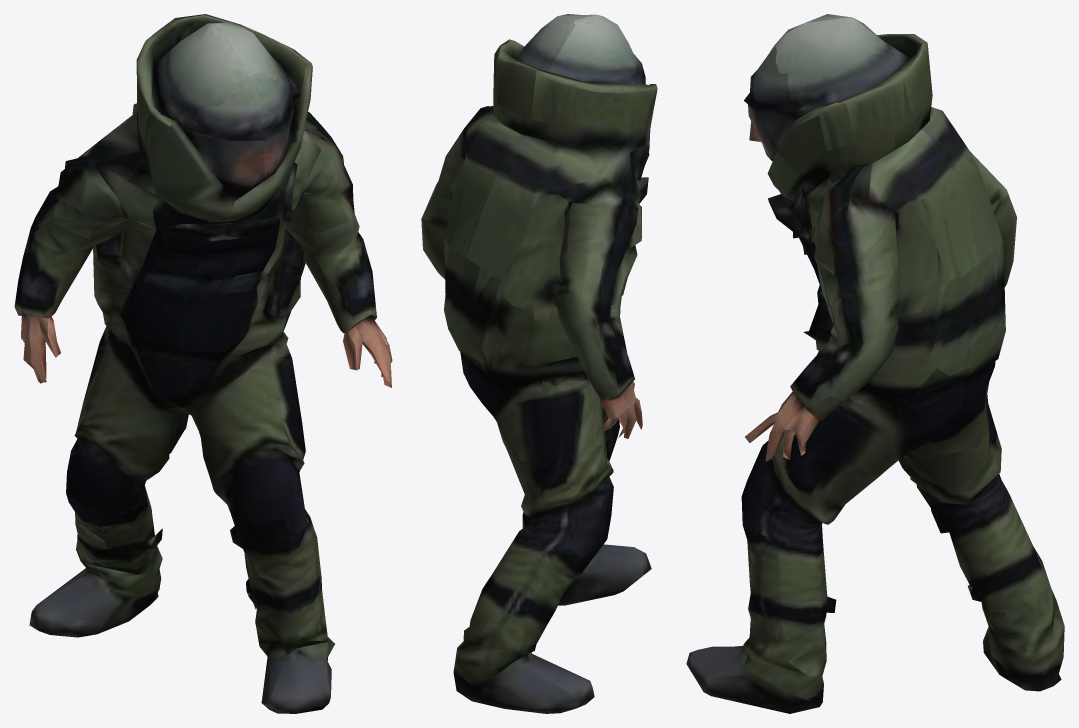
The model's file is jinbom_idle_lod2.glb.
3 renders of one model, left to right at view 1: azimuth 30°, elevation 25°; view 2: azimuth 150°, elevation 25°; view 3: azimuth 270°, elevation 25°, orthographic. The views are drawn at different scales.
Parts seen in each view (by area): view 1: tripo_node_659e1e9f; view 2: tripo_node_659e1e9f; view 3: tripo_node_659e1e9f.
Part boxes in pixels (box(x1,y1,x2,y2)): tripo_node_659e1e9f: box(14, 14, 392, 713); tripo_node_659e1e9f: box(421, 14, 657, 713); tripo_node_659e1e9f: box(686, 14, 1064, 713).
Bounding box in the file's own units: 42.73 × 94.62 × 48.96.
1 material, 1 textured.
